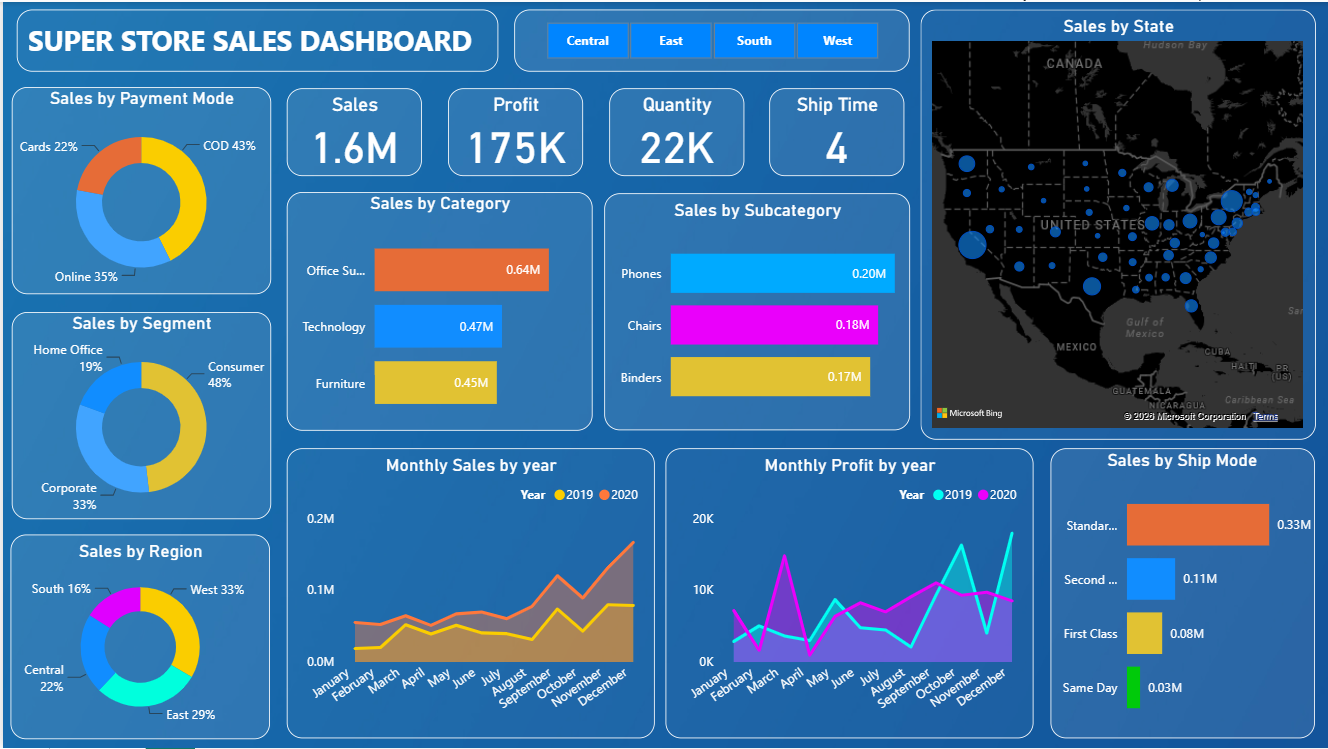

The dashboard page shown, as its layout file describes it:
{"tool":"powerbi","page":{"name":"Page 1","canvas":[1280,720],"ordinal":0},"visuals":[{"type":"clusteredBarChart","title":"Sales by Category","fields":{"Category":["SuperStore_Sales_Dataset (1).Category"],"Y":["Sum(SuperStore_Sales_Dataset (1).Sales)"]},"box":[273.8,183.8,295,230],"z":0},{"type":"clusteredBarChart","title":"Sales by Subcategory","fields":{"Category":["SuperStore_Sales_Dataset (1).Sub-Category"],"Y":["Sum(SuperStore_Sales_Dataset (1).Sales)"]},"box":[580,185,295,228.8],"z":1000},{"type":"clusteredBarChart","title":"Sales by Ship Mode","fields":{"Category":["SuperStore_Sales_Dataset (1).Ship Mode"],"Y":["Sum(SuperStore_Sales_Dataset (1).Sales)"]},"box":[1011.2,431.2,255,280],"z":2000},{"type":"areaChart","title":"Monthly Sales by year","fields":{"Category":["SuperStore_Sales_Dataset (1).Order Date.Variation.Date Hierarchy.Month","SuperStore_Sales_Dataset (1).Order Date.Variation.Date Hierarchy.Day"],"Series":["SuperStore_Sales_Dataset (1).Order Date.Variation.Date Hierarchy.Year"],"Y":["Sum(SuperStore_Sales_Dataset (1).Sales)"]},"box":[273.8,431.2,355,280],"z":3000},{"type":"areaChart","title":"Monthly Profit by year","fields":{"Category":["SuperStore_Sales_Dataset (1).Order Date.Variation.Date Hierarchy.Month","SuperStore_Sales_Dataset (1).Order Date.Variation.Date Hierarchy.Day"],"Series":["SuperStore_Sales_Dataset (1).Order Date.Variation.Date Hierarchy.Year"],"Y":["Sum(SuperStore_Sales_Dataset (1).Profit)"]},"box":[640,431.2,355,280],"z":4000},{"type":"map","title":"Sales by State","fields":{"Category":["SuperStore_Sales_Dataset (1).State"],"Size":["Sum(SuperStore_Sales_Dataset (1).Sales)"]},"box":[885,7.5,381.2,415],"z":5000},{"type":"donutChart","title":"Sales by Segment","fields":{"Category":["SuperStore_Sales_Dataset (1).Segment"],"Y":["Sum(SuperStore_Sales_Dataset (1).Sales)"]},"box":[8.8,298.8,250,200],"z":6000},{"type":"donutChart","title":"Sales by Payment Mode","fields":{"Category":["SuperStore_Sales_Dataset (1).Payment Mode"],"Y":["Sum(SuperStore_Sales_Dataset (1).Sales)"]},"box":[8.8,82.5,250,200],"z":7000},{"type":"donutChart","title":"Sales by Region","fields":{"Category":["SuperStore_Sales_Dataset (1).Region"],"Y":["Sum(SuperStore_Sales_Dataset (1).Sales)"]},"box":[7.5,513.8,250,197.5],"z":8000},{"type":"slicer","fields":{"Values":["SuperStore_Sales_Dataset (1).Region"]},"box":[493.8,7.5,381.2,60],"z":9000},{"type":"textbox","box":[13.3,7.8,464.4,60],"z":10000},{"type":"card","title":"Sales","fields":{"Values":["Sum(SuperStore_Sales_Dataset (1).Sales)"]},"box":[273.8,83.8,130,85],"z":11000},{"type":"card","title":"Profit","fields":{"Values":["Sum(SuperStore_Sales_Dataset (1).Profit)"]},"box":[429.2,83.8,130,85],"z":12000},{"type":"card","title":"Quantity","fields":{"Values":["Sum(SuperStore_Sales_Dataset (1).Quantity)"]},"box":[584.6,83.8,130,85],"z":13000},{"type":"card","title":"Ship Time","fields":{"Values":["Avg(SuperStore_Sales_Dataset (1).Average Delivery Days)"]},"box":[740,83.8,130,85],"z":14000}]}

Visuals, with their boxes in screenshot pixels (x1, y1, x2, y2), scaled from the page's 1280x720 canvas onto the 1328x749 screenshot:
"Sales by Category" clusteredBarChart: BBox(284, 191, 590, 430)
"Sales by Subcategory" clusteredBarChart: BBox(602, 192, 908, 430)
"Sales by Ship Mode" clusteredBarChart: BBox(1049, 449, 1314, 740)
"Monthly Sales by year" areaChart: BBox(284, 449, 652, 740)
"Monthly Profit by year" areaChart: BBox(664, 449, 1032, 740)
"Sales by State" map: BBox(918, 8, 1314, 440)
"Sales by Segment" donutChart: BBox(9, 311, 269, 519)
"Sales by Payment Mode" donutChart: BBox(9, 86, 269, 294)
"Sales by Region" donutChart: BBox(8, 534, 267, 740)
slicer - SuperStore_Sales_Dataset (1).Region: BBox(512, 8, 908, 70)
textbox: BBox(14, 8, 496, 71)
"Sales" card: BBox(284, 87, 419, 176)
"Profit" card: BBox(445, 87, 580, 176)
"Quantity" card: BBox(607, 87, 741, 176)
"Ship Time" card: BBox(768, 87, 903, 176)
